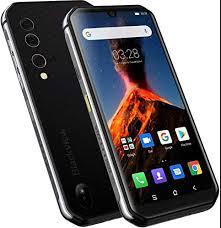Smartphone: (65, 8, 214, 224), (0, 4, 136, 227)
